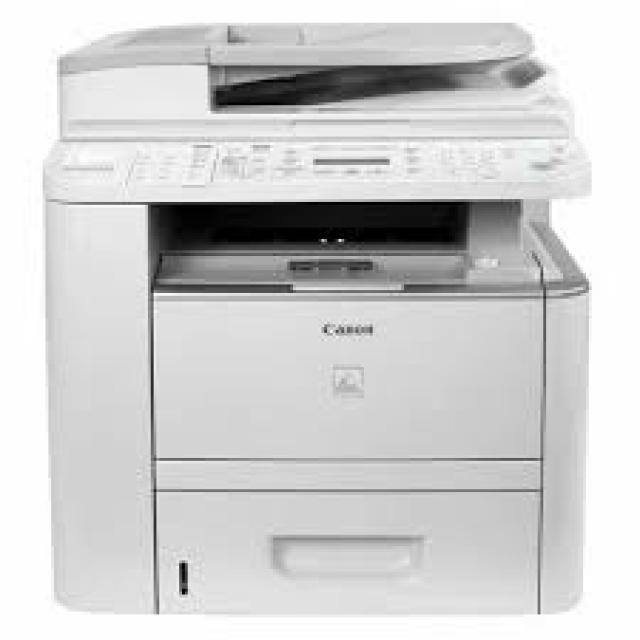printer: (39, 17, 592, 614)
